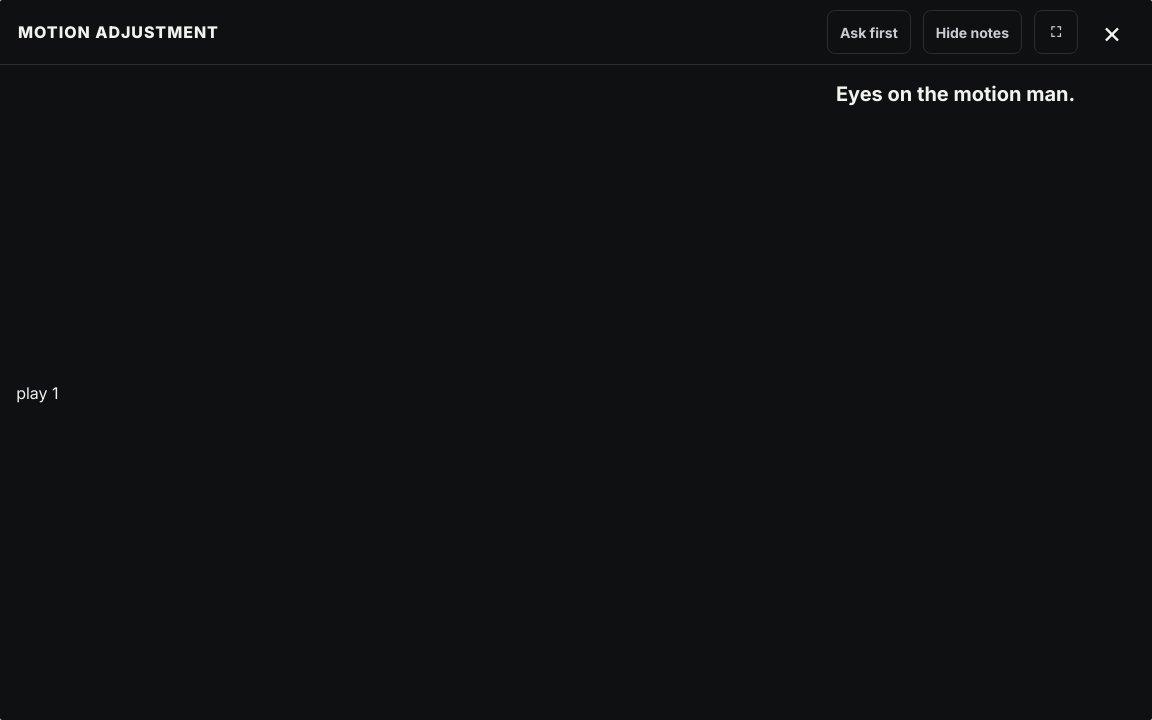
Scenario: Ask first on a play - the point is the answer › a point with no picture to hold back still waits for Show the answer
Click the button "Ask first" at coordinates (869, 32), box x1=827 y1=10 x2=911 y2=54
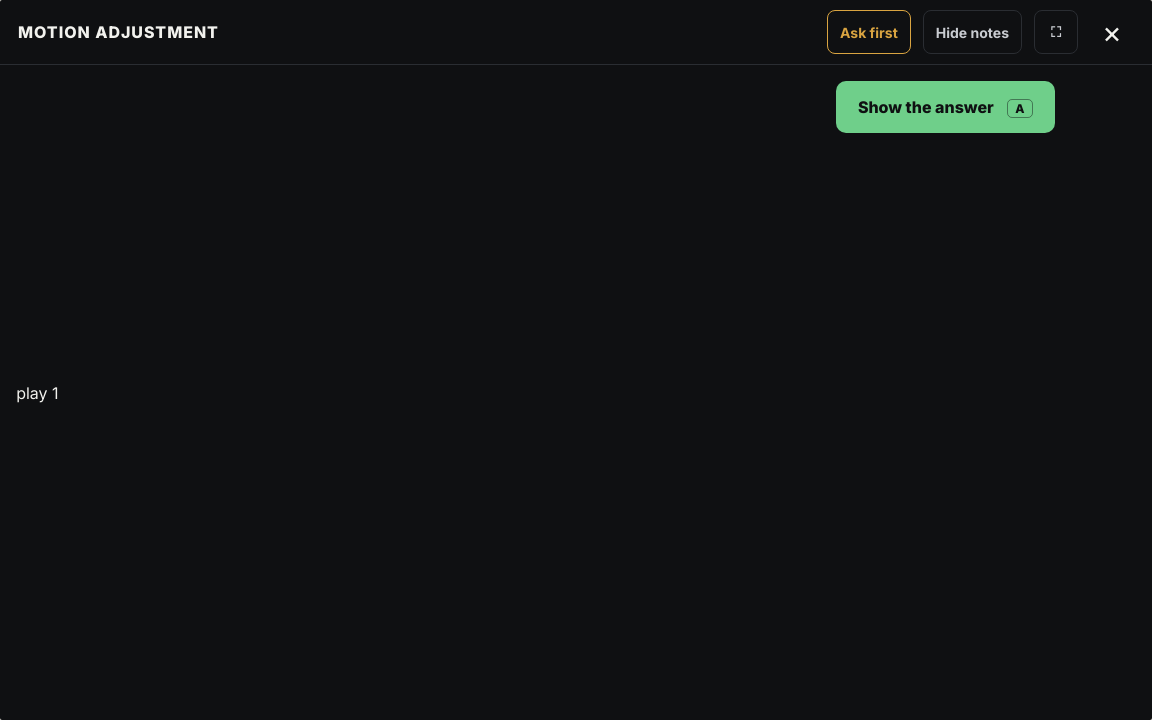
Now the text "Eyes on the motion man." is gone
Click the button "Show the answer A" at coordinates (945, 107), box x1=836 y1=81 x2=1054 y2=133
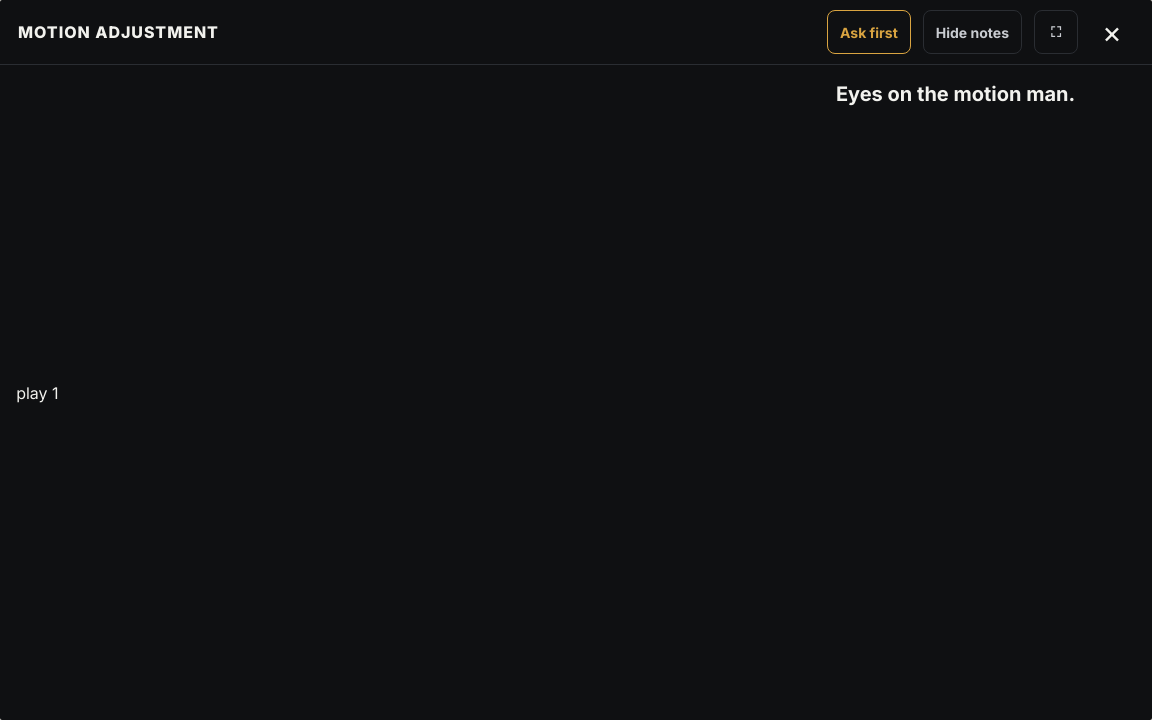
Now the text "Eyes on the motion man." is shown, box x1=836 y1=82 x2=1075 y2=106
